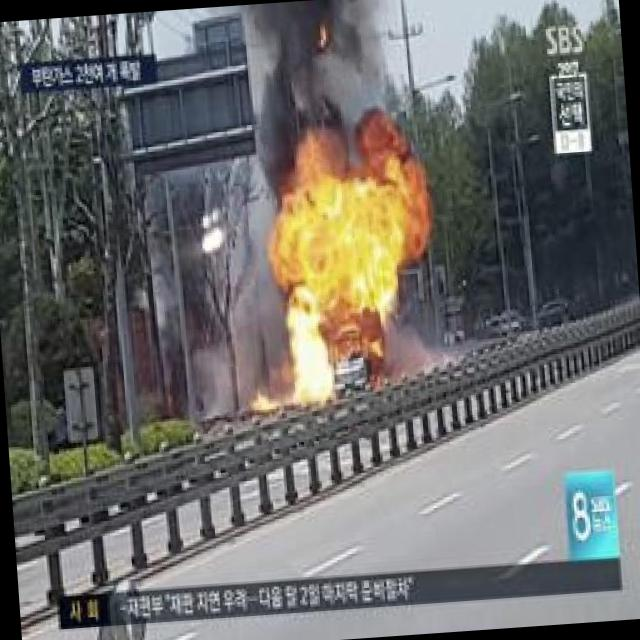Fire: (262, 173, 432, 397)
Smoke: (238, 0, 414, 190)
